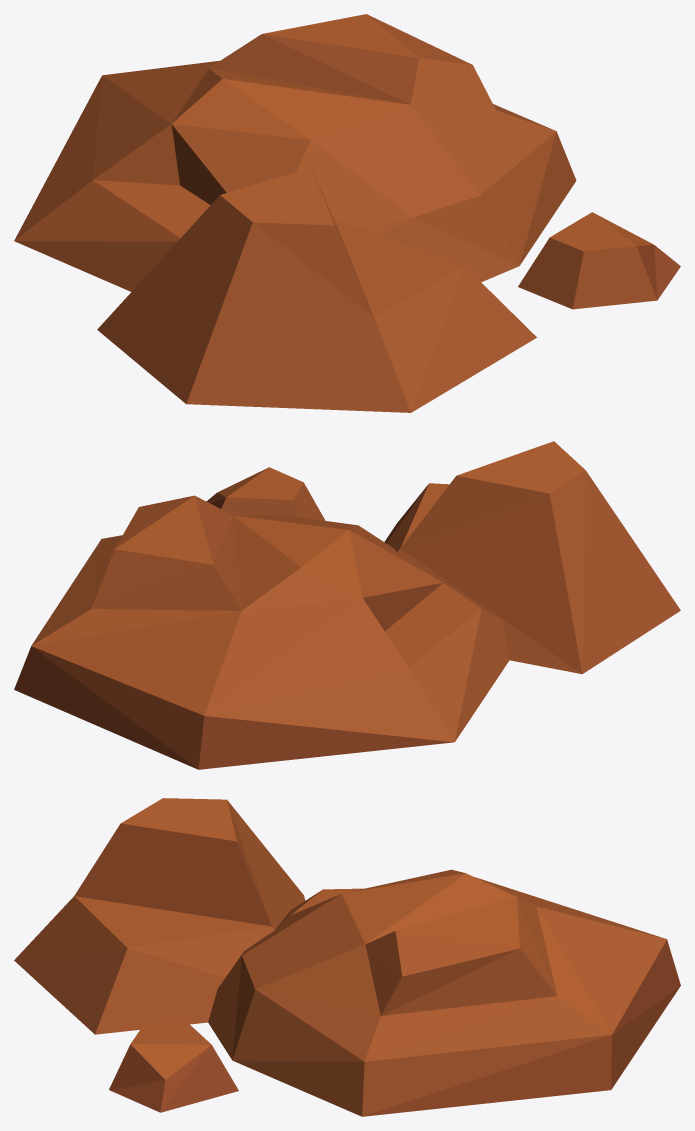
Rendered from kk_rocks_a.obj.
3 renders of one model, top to bottom at view 1: azimuth 30°, elevation 25°; view 2: azimuth 150°, elevation 25°; view 3: azimuth 270°, elevation 25°, orthographic. The views are drawn at different scales.
Size of the model in its own units: 7.42 by 2 by 9.28.
